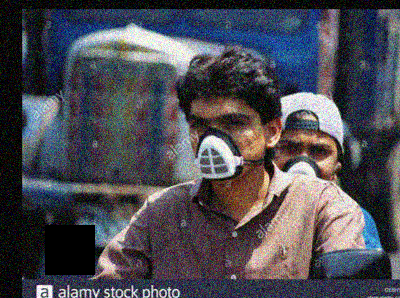with_mask: (188, 109, 265, 184), (276, 134, 337, 181)
